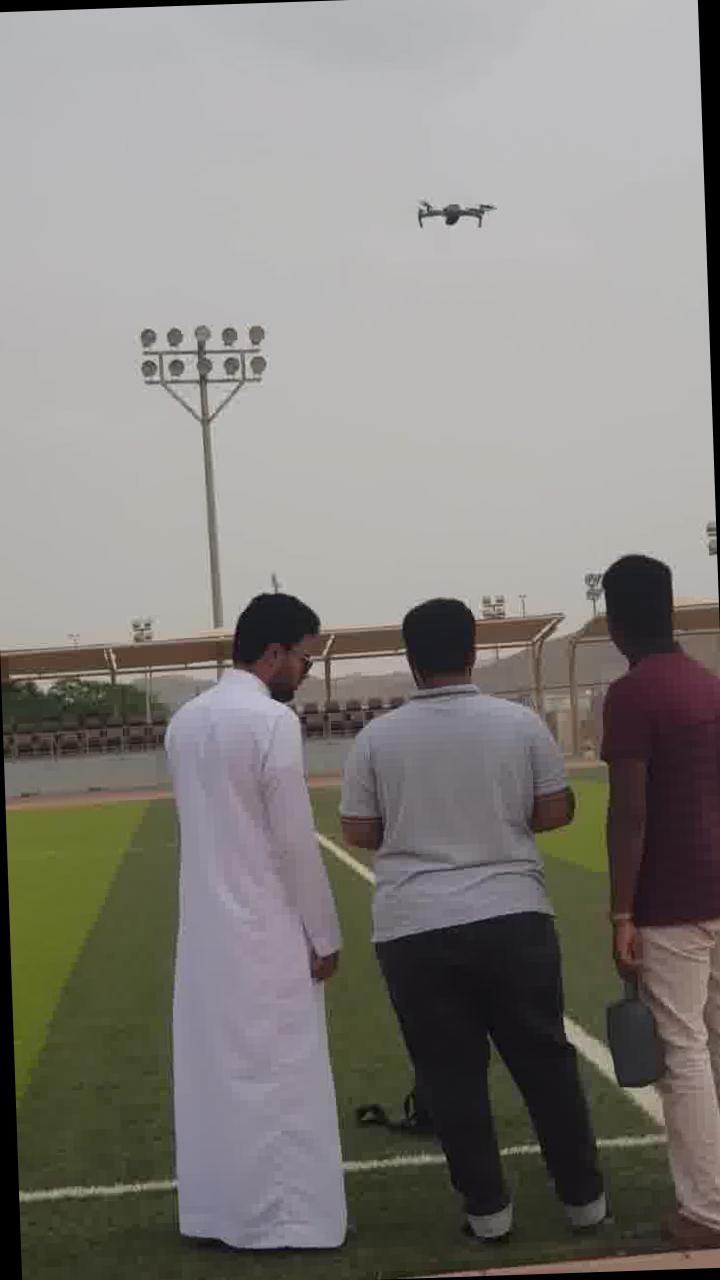drone: (404, 178, 501, 238)
